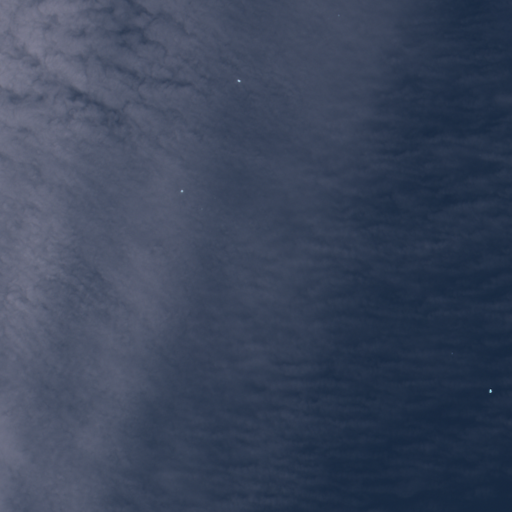Iceberg: (180, 189, 183, 192), (489, 389, 492, 392), (237, 79, 240, 81), (338, 14, 339, 16), (451, 352, 452, 353)
